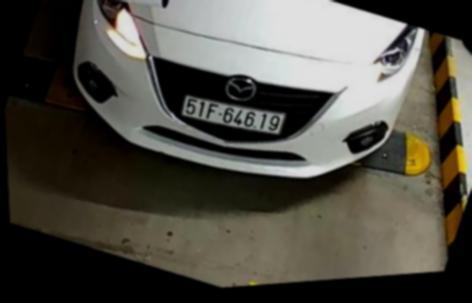License_Plate: (183, 86, 293, 153)
